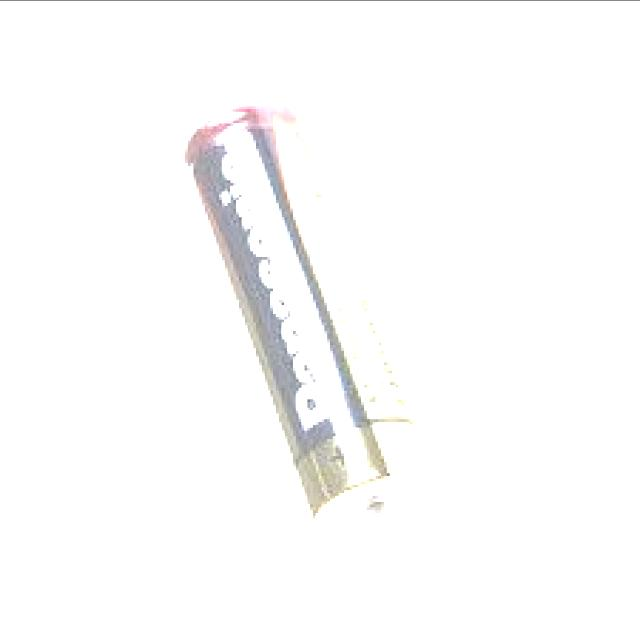AA: (176, 94, 450, 544)
